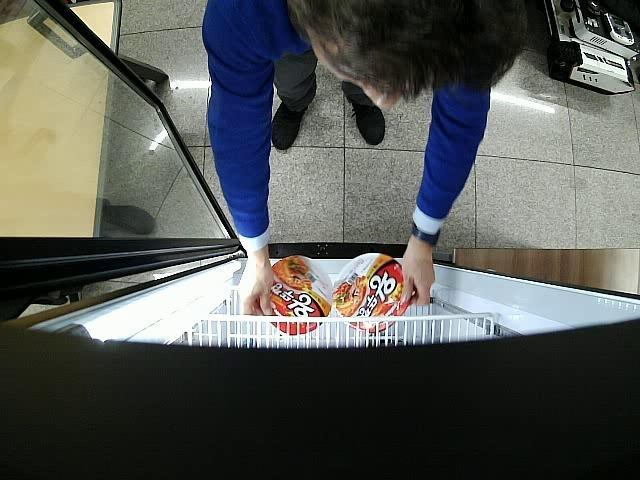10_wangTtukkeong: (333, 253, 411, 333), (256, 255, 332, 335)
